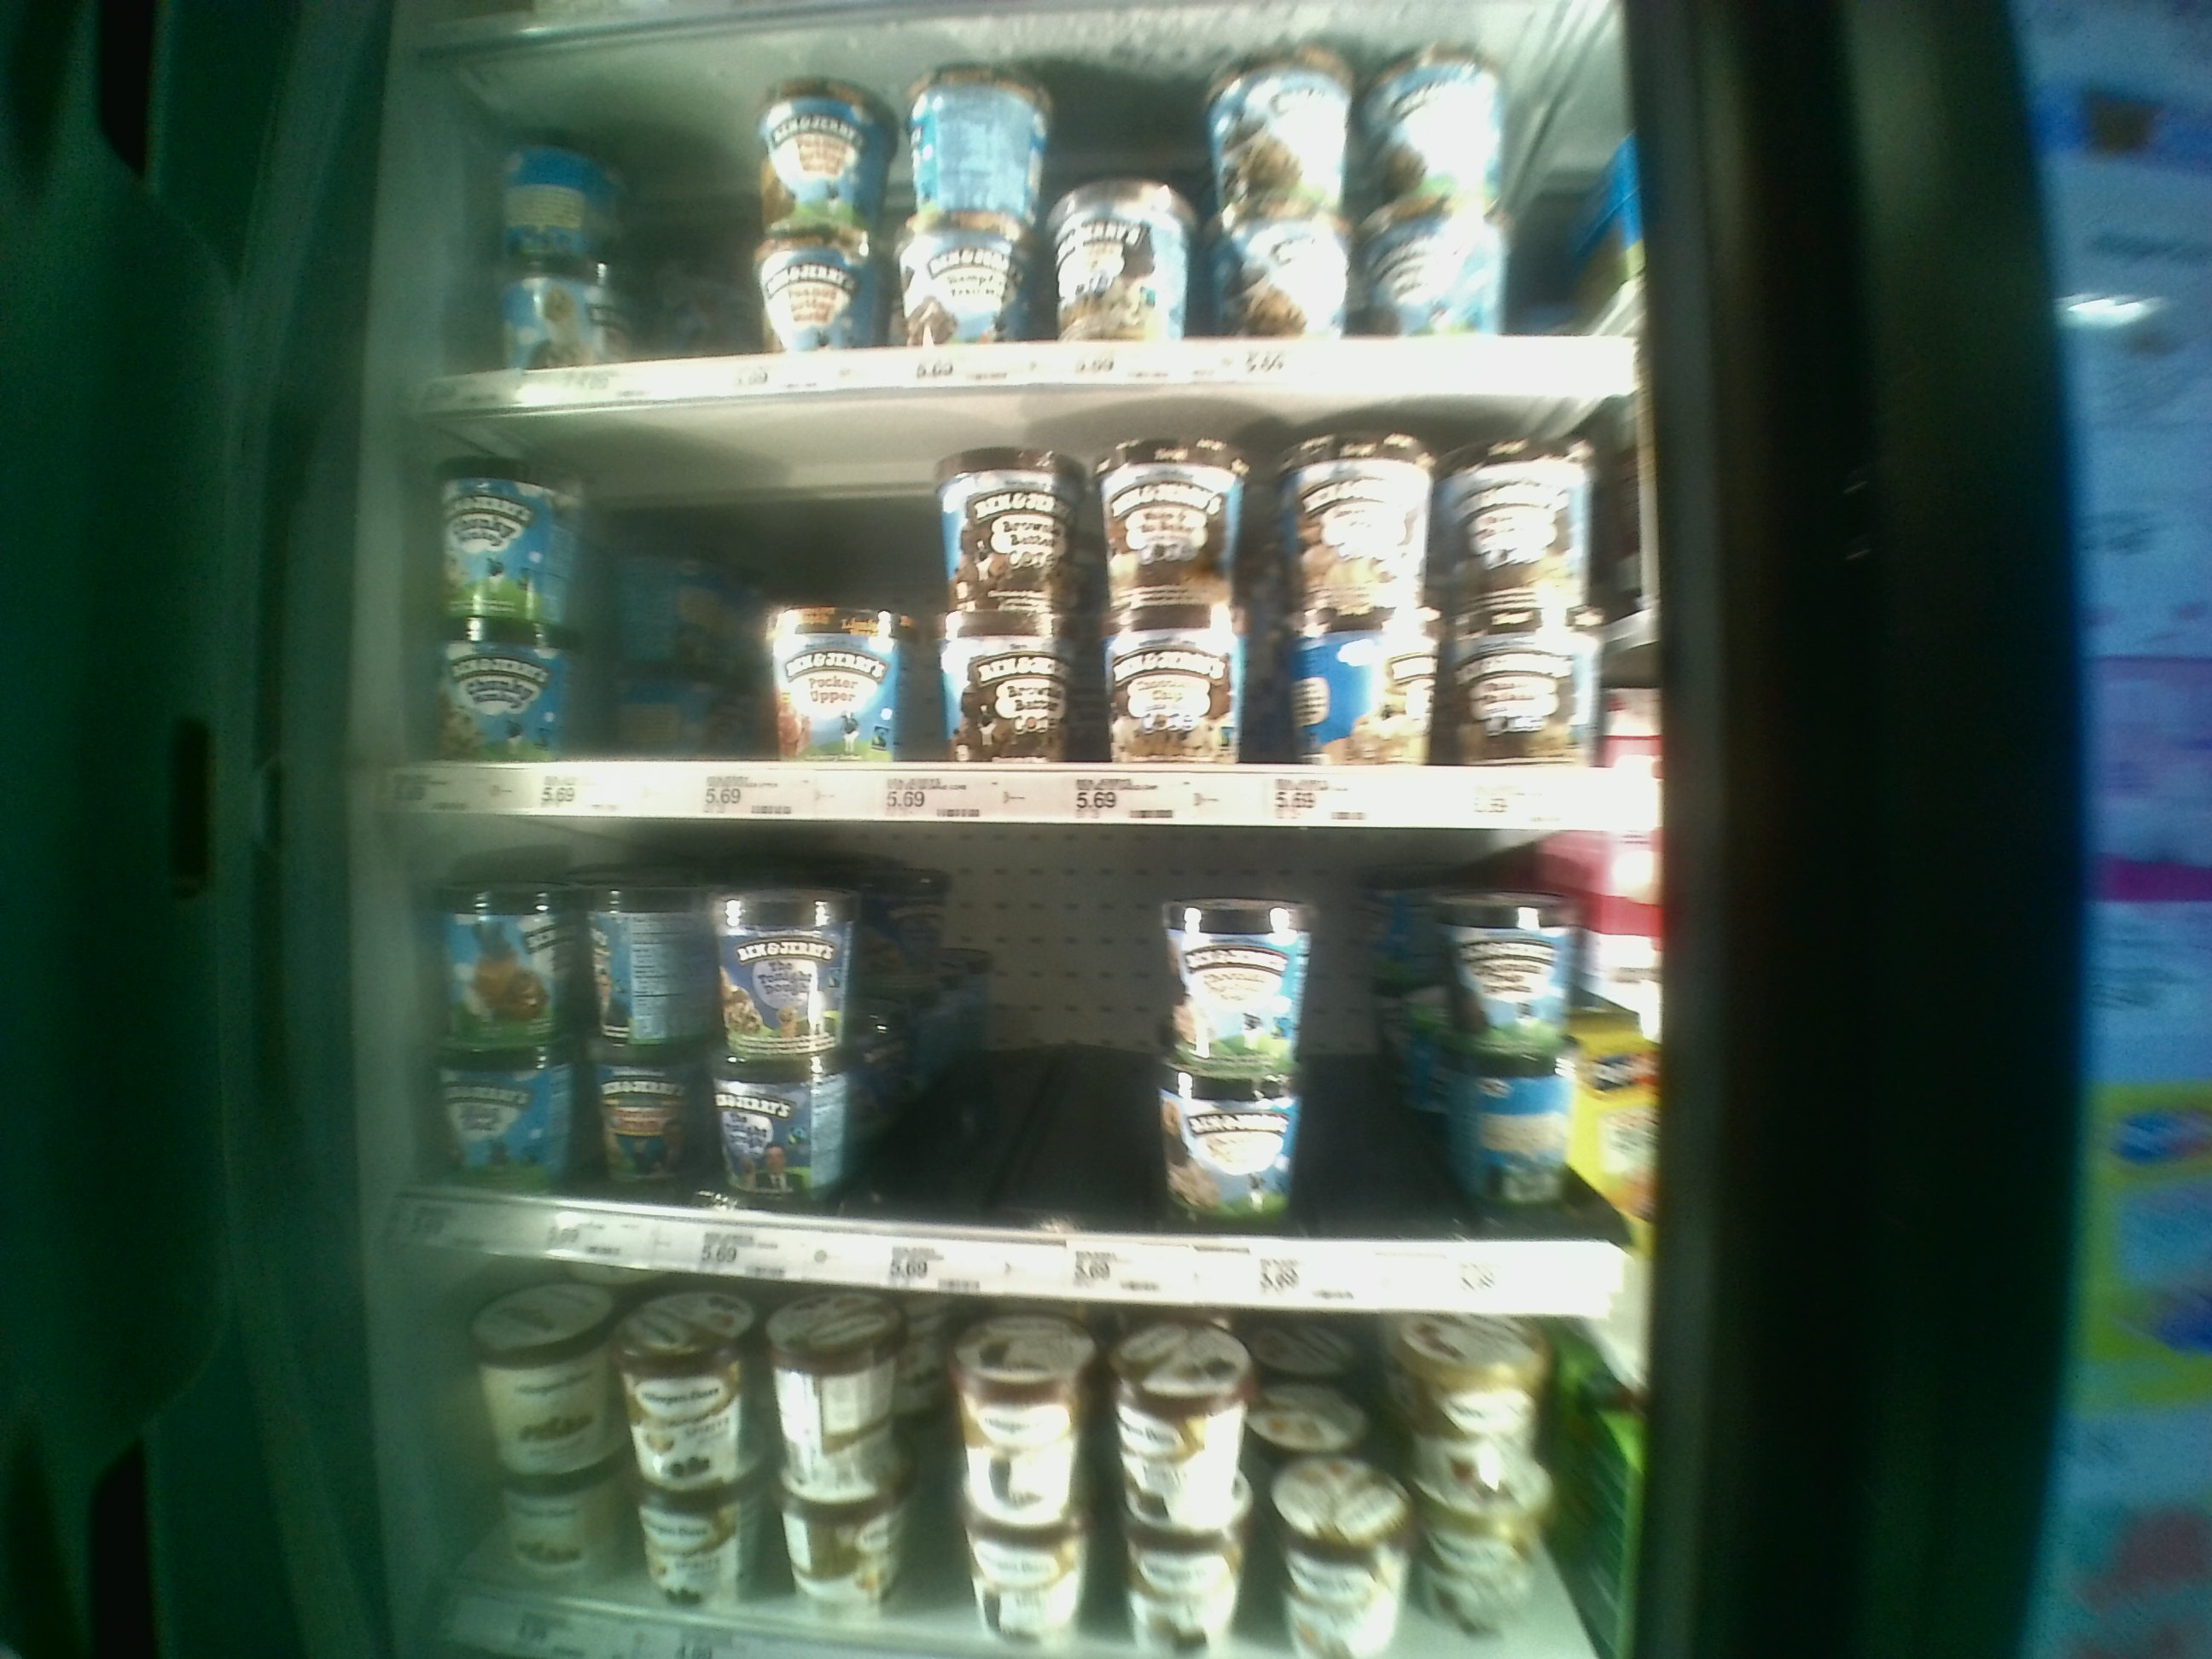ice-cream-shelf: (394, 828, 1639, 1321), (399, 385, 1651, 828)
